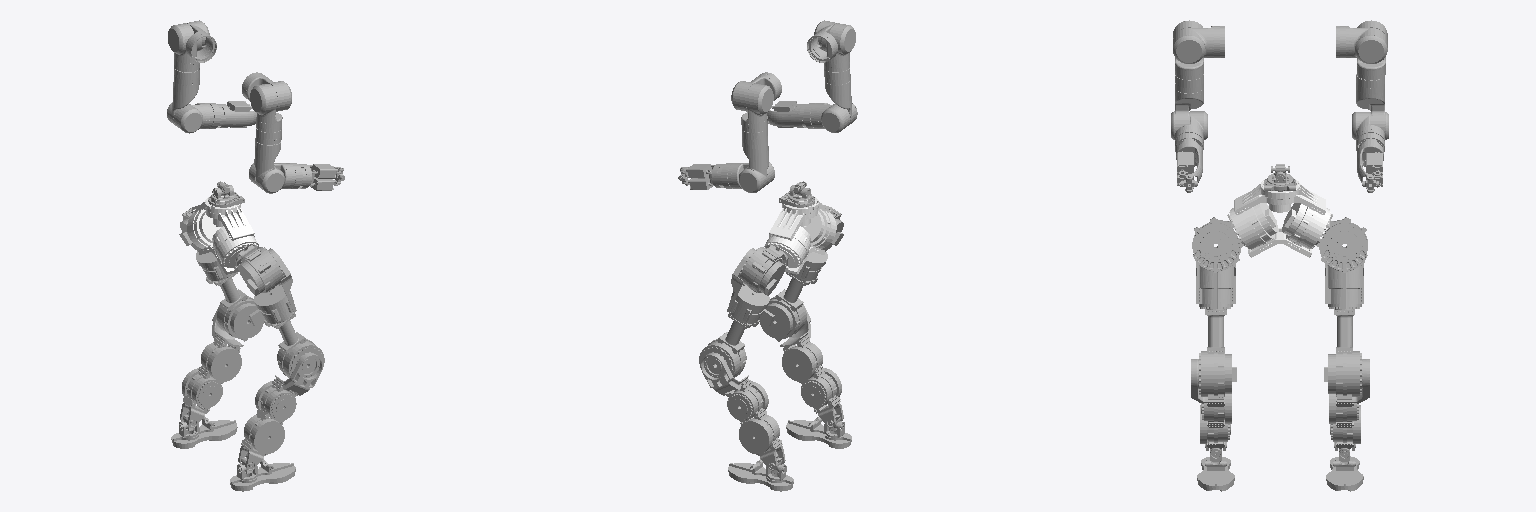
--- Facts derived from the render (not from the file) ---
The picture shows the robot from 3 angles, left to right: view 1: azimuth 30°, elevation 25°; view 2: azimuth 150°, elevation 25°; view 3: azimuth 270°, elevation 25°; orthographic projection.
Robot: dexbot — 30 links, 29 joints (12 revolute, 17 fixed); root link base_link; default pose: all joints at 0.
Links seen in each view (by area): view 1: leg_r4_link, leg_l4_link, base_link, leg_l3_link, leg_r1_link, leg_r3_link, arm_r3_link, leg_r2_link, leg_l6_link, leg_r6_link, arm_r2_link, arm_r5_link (+7 smaller); view 2: leg_l4_link, leg_r4_link, base_link, leg_r3_link, leg_l1_link, leg_l3_link, arm_l3_link, leg_l2_link, leg_l6_link, leg_r6_link, arm_l2_link, arm_l5_link (+7 smaller); view 3: base_link, leg_r2_link, leg_l2_link, leg_l3_link, leg_r3_link, leg_r4_link, leg_l4_link, arm_r1_link, arm_l1_link, arm_l3_link, arm_r5_link, arm_r3_link (+9 smaller).
Link boxes in pixels (x1,y1,x2,y2): leg_r4_link: (238, 353, 322, 470); leg_l4_link: (180, 305, 243, 427); base_link: (187, 196, 258, 274); leg_l3_link: (206, 272, 264, 341); leg_r1_link: (235, 244, 284, 295); leg_r3_link: (264, 312, 324, 377); arm_r3_link: (254, 128, 284, 193); leg_r2_link: (254, 248, 296, 323); leg_l6_link: (171, 417, 237, 448); leg_r6_link: (230, 459, 295, 491); arm_r2_link: (250, 84, 282, 132); arm_r5_link: (290, 163, 343, 190); leg_l4_link: (700, 353, 785, 470); leg_r4_link: (780, 304, 843, 427); base_link: (764, 196, 836, 274); leg_r3_link: (759, 272, 817, 341); leg_l1_link: (739, 244, 788, 295); leg_l3_link: (699, 312, 759, 377); arm_l3_link: (739, 128, 768, 192); leg_l2_link: (727, 248, 769, 323); leg_l6_link: (728, 459, 793, 491); leg_r6_link: (786, 417, 851, 448); arm_l2_link: (741, 83, 773, 132); arm_l5_link: (680, 163, 732, 189); base_link: (1229, 179, 1330, 257); leg_r2_link: (1193, 231, 1238, 309); leg_l2_link: (1322, 231, 1367, 309); leg_l3_link: (1324, 309, 1362, 399); leg_r3_link: (1198, 309, 1236, 399); leg_r4_link: (1191, 359, 1231, 450); leg_l4_link: (1329, 359, 1369, 450); arm_r1_link: (1173, 26, 1224, 63); arm_l1_link: (1336, 26, 1387, 63); arm_l3_link: (1356, 74, 1388, 139); arm_r5_link: (1175, 132, 1203, 192); arm_r3_link: (1171, 74, 1203, 139).
Size in the robot's own frame: 0.3381 by 0.5764 by 1.31 metres.
27 mesh visuals loaded from 30 distinct referenced files (27 binary STL); not drawn: 3 (reference not matched to a file when rendering).

robot.urdf — dexbot:
<?xml version="1.0" encoding="utf-8"?>
<!-- This URDF was automatically created by SolidWorks to URDF Exporter! Originally created by Stephen Brawner ([email redacted]) 
     Commit Version: 1.6.0-4-g7f85cfe  Build Version: 1.6.7995.38578
     For more information, please see http://wiki.ros.org/sw_urdf_exporter -->
<robot
  name="dexbot">
  <mujoco>
    <compiler meshdir="../meshes/" balanceinertia="true" discardvisual="false"/>
  </mujoco>
  <link
    name="base_link">
    <inertial>
      <origin
        xyz="0.00026092 -2.8127E-06 -0.032217"
        rpy="0 0 0" />
      <mass
        value="6.36148470" />
      <inertia
        ixx="0.04306588"
        ixy="-0.00000008"
        ixz="-0.00001174"
        iyy="0.01886801"
        iyz="0.00000066"
        izz="0.03427573" />
    </inertial>
    <visual>
      <origin
        xyz="0 0 0"
        rpy="0 0 0" />
      <geometry>
        <mesh
          filename="../meshes/base_link.STL" />
      </geometry>
      <material
        name="">
        <color
          rgba="1 1 1 1" />
      </material>
    </visual>
    <collision>
      <origin
        xyz="0 0 0"
        rpy="0 0 0" />
      <geometry>
	    <box size="0.05 0.05 0.05"/>
      </geometry>
    </collision>
  </link>
 
  <link
    name="leg_l1_link">
    <inertial>
      <origin
        xyz="0.0017864690688535 0.116806232663126 -0.06730045557826"
        rpy="0 0 0" />
      <mass
        value="2.52127296" />
      <inertia
        ixx="0.00489363"
        ixy="0.00004173"
        ixz="-0.00002377"
        iyy="0.00398523"
        iyz="0.00008835"
        izz="0.00406691" />
    </inertial>
    <visual>
      <origin
        xyz="0 0 0"
        rpy="0 0 0" />
      <geometry>
        <mesh
          filename="../meshes/leg_l1_link.STL" />
      </geometry>
      <material
        name="">
        <color
          rgba="0.752941176470588 0.752941176470588 0.752941176470588 1" />
      </material>
    </visual>
    <collision>
      <origin
        xyz="0 0 0"
        rpy="0 0 0" />
      <geometry>
        <mesh
          filename="../meshes/leg_l1_link.STL" />
      </geometry>
    </collision>
  </link>
  <joint
    name="leg_l1_joint"
    type="revolute">
    <origin
      xyz="0 0.046765 -0.047489"
      rpy="0 -0.4 0" />
    <parent
      link="base_link" />
    <child
      link="leg_l1_link" />
    <axis
      xyz="0 0.86603 -0.5" />
    <limit
      lower="-2.878"
      upper="2.878"
      effort="360"
      velocity="10" />
  </joint>
  <link
    name="leg_l2_link">
    <inertial>
      <origin
        xyz="0.0181611526889743 7.56912721500136E-07 -0.100016047593423"
        rpy="0 0 0" />
      <mass
        value="1.73504778" />
      <inertia
        ixx="0.00395397"
        ixy="-0.00000001"
        ixz="-0.00093866"
        iyy="0.00413227"
        iyz="-0.00000002"
        izz="0.00269158" />
    </inertial>
    <visual>
      <origin
        xyz="0 0 0"
        rpy="0 0 0" />
      <geometry>
        <mesh
          filename="../meshes/leg_l2_link.STL" />
      </geometry>
      <material
        name="">
        <color
          rgba="0.752941176470588 0.752941176470588 0.752941176470588 1" />
      </material>
    </visual>
    <collision>
      <origin
        xyz="0 0 0"
        rpy="0 0 0" />
      <geometry>
        <mesh
          filename="../meshes/leg_l2_link.STL" />
      </geometry>
    </collision>
  </link>
  <joint
    name="leg_l2_joint"
    type="revolute">
    <origin
      xyz="0 0.12298 -0.071"
      rpy="0 0 0" />
    <parent
      link="leg_l1_link" />
    <child
      link="leg_l2_link" />
    <axis
      xyz="1 0 0" />
    <limit
      lower="-0.523"
      upper="3.663"
      effort="360"
      velocity="10" />
  </joint>
  <link
    name="leg_l3_link">
    <inertial>
      <origin
        xyz="0.000114524600190401 0.00164777125622231 -0.147066721883769"
        rpy="0 0 0" />
      <mass
        value="2.61656788" />
      <inertia
        ixx="0.00782239"
        ixy="0.00006403"
        ixz="0.00007604"
        iyy="0.00840438"
        iyz="0.00005952"
        izz="0.00374500" />
    </inertial>
    <visual>
      <origin
        xyz="0 0 0"
        rpy="0 0 0" />
      <geometry>
        <mesh
          filename="../meshes/leg_l3_link.STL" />
      </geometry>
      <material
        name="">
        <color
          rgba="0.752941176470588 0.752941176470588 0.752941176470588 1" />
      </material>
    </visual>
    <collision>
      <origin
        xyz="0 0 0"
        rpy="0 0 0" />
      <geometry>
        <mesh
          filename="../meshes/leg_l3_link.STL" />
      </geometry>
    </collision>
  </link>
  <joint
    name="leg_l3_joint"
    type="revolute">
    <origin
      xyz="0 0 -0.167"
      rpy="0 0 0" />
    <parent
      link="leg_l2_link" />
    <child
      link="leg_l3_link" />
    <axis
      xyz="0 0 1" />
    <limit
      lower="-2.791"
      upper="2.791"
      effort="120"
      velocity="10" />
  </joint>
  <link
    name="leg_l4_link">
    <inertial>
      <origin
        xyz="-2.42788361047336E-08 0.00822937854237335 -0.173854656992678"
        rpy="0 0 0" />
      <mass
        value="3.31554813 " />
      <inertia
        ixx="0.01958814"
        ixy="1.45675411582526E-10"
        ixz="3.648473073682E-10"
        iyy="0.01919917"
        iyz="-0.00126641"
        izz="0.00408025" />
    </inertial>
    <visual>
      <origin
        xyz="0 0 0"
        rpy="0 0 0" />
      <geometry>
        <mesh
          filename="../meshes/leg_l4_link.STL" />
      </geometry>
      <material
        name="">
        <color
          rgba="0.752941176470588 0.752941176470588 0.752941176470588 1" />
      </material>
    </visual>
    <collision>
      <origin
        xyz="0 0 0"
        rpy="0 0 0" />
      <geometry>
	    <box size="0.1 0.1 0.2"/>
      </geometry>
    </collision>
  </link>
  <joint
    name="leg_l4_joint"
    type="revolute">
    <origin
      xyz="0 0 -0.173"
      rpy="0 0.95 0" />
    <parent
      link="leg_l3_link" />
    <child
      link="leg_l4_link" />
    <axis
      xyz="0 1 0" />
    <limit
      lower="-2.355"
      upper="2.355"
      effort="360"
      velocity="10" />
  </joint>
  <link
    name="leg_l5_link">
    <inertial>
      <origin
        xyz="4.00159781425996E-05 -1.65302931448563E-05 -0.00782114986776949"
        rpy="0 0 0" />
      <mass
        value="0.07526525" />
      <inertia
        ixx="0.00001536"
        ixy="2.28805291083391E-22"
        ixz="0.00000014"
        iyy="0.00001554"
        iyz="-2.04482003272117E-20"
        izz="0.00001540" />
    </inertial>
    <visual>
      <origin
        xyz="0 0 0"
        rpy="0 0 0" />
      <geometry>
        <mesh
          filename="../meshes/leg_l5_link.STL" />
      </geometry>
      <material
        name="">
        <color
          rgba="0.752941176470588 0.752941176470588 0.752941176470588 1" />
      </material>
    </visual>
    <collision>
      <origin
        xyz="0 0 0"
        rpy="0 0 0" />
      <geometry>
        <mesh
          filename="../meshes/leg_l5_link.STL" />
      </geometry>
    </collision>
  </link>
  <joint
    name="leg_l5_joint"
    type="revolute">
    <origin
      xyz="0 0 -0.34"
      rpy="0 -0.6 0" />
    <parent
      link="leg_l4_link" />
    <child
      link="leg_l5_link" />
    <axis
      xyz="0 1 0" />
    <limit
      lower="-1.046"
      upper="0.436"
      effort="120"
      velocity="10" />
    <dynamics
      damping="0."
      friction="0.1" />
  </joint>
  <link
    name="leg_l6_link">
    <inertial>
      <origin
        xyz="0.0457872515086006 -6.33583149833861E-09 -0.0382686559903004"
        rpy="0 0 0" />
      <mass
        value="0.53640572" />
      <inertia
        ixx="0.00030450"
        ixy="-6.41793064473971E-11"
        ixz="0.00006785"
        iyy="0.00162803"
        iyz="-5.36686897038477E-11"
        izz="0.00177516" />
    </inertial>
    <visual>
      <origin
        xyz="0 0 0"
        rpy="0 0 0" />
      <geometry>
        <mesh
          filename="../meshes/leg_l6_link.STL" />
      </geometry>
      <material
        name="">
        <color
          rgba="0.752941176470588 0.752941176470588 0.752941176470588 1" />
      </material>
    </visual>
    <collision>
      <origin
        xyz="0 0 0"
        rpy="0 0 0" />
      <geometry>
        <mesh
          filename="../meshes/leg_l6_link.STL" />
      </geometry>
    </collision>
  </link>
  <joint
    name="leg_l6_joint"
    type="revolute">
    <origin
      xyz="0 0 -0.015"
      rpy="0 0 0" />
    <parent
      link="leg_l5_link" />
    <child
      link="leg_l6_link" />
    <axis
      xyz="1 0 0" />
    <limit
      lower="-0.261"
      upper="0.261"
      effort="120"
      velocity="10" />
    <dynamics
      damping="0."
      friction="0.1" />
  </joint>
  <link
    name="leg_r1_link">
    <inertial>
      <origin
        xyz="0.00178614318038721 -0.11680589348535 -0.0673010430487607"
        rpy="0 0 0" />
      <mass
        value="2.52127296" />
      <inertia
        ixx="0.00489363"
        ixy="-0.00004169"
        ixz="-0.00002379"
        iyy="0.00398515"
        iyz="-0.00008830"
        izz="0.00406699" />
    </inertial>
    <visual>
      <origin
        xyz="0 0 0"
        rpy="0 0 0" />
      <geometry>
        <mesh
          filename="../meshes/leg_r1_link.STL" />
      </geometry>
      <material
        name="">
        <color
          rgba="0.752941176470588 0.752941176470588 0.752941176470588 1" />
      </material>
    </visual>
    <collision>
      <origin
        xyz="0 0 0"
        rpy="0 0 0" />
      <geometry>
        <mesh
          filename="../meshes/leg_r1_link.STL" />
      </geometry>
    </collision>
  </link>
  <joint
    name="leg_r1_joint"
    type="revolute">
    <origin
      xyz="0 -0.046765 -0.047489"
      rpy="0 -0.4 0" />
    <parent
      link="base_link" />
    <child
      link="leg_r1_link" />
    <axis
      xyz="0 0.86603 0.5" />
    <limit
      lower="-2.878"
      upper="2.878"
      effort="360"
      velocity="10" />
  </joint>
  <link
    name="leg_r2_link">
    <inertial>
      <origin
        xyz="0.0181611526889737 7.56912739346971E-07 -0.100016047593425"
        rpy="0 0 0" />
      <mass
        value="1.73504778 " />
      <inertia
        ixx="0.00395397"
        ixy="-0.00000001"
        ixz="-0.00093866"
        iyy="0.00413227"
        iyz="-0.00000002"
        izz="0.00269158" />
    </inertial>
    <visual>
      <origin
        xyz="0 0 0"
        rpy="0 0 0" />
      <geometry>
        <mesh
          filename="../meshes/leg_r2_link.STL" />
      </geometry>
      <material
        name="">
        <color
          rgba="0.752941176470588 0.752941176470588 0.752941176470588 1" />
      </material>
    </visual>
    <collision>
      <origin
        xyz="0 0 0"
        rpy="0 0 0" />
      <geometry>
        <mesh
          filename="../meshes/leg_r2_link.STL" />
      </geometry>
    </collision>
  </link>
  <joint
    name="leg_r2_joint"
    type="revolute">
    <origin
      xyz="0 -0.12298 -0.071"
      rpy="0 0 0" />
    <parent
      link="leg_r1_link" />
    <child
      link="leg_r2_link" />
    <axis
      xyz="1 0 0" />
    <limit
      lower="-3.663"
      upper="0.523"
      effort="360"
      velocity="10" />
  </joint>
  <link
    name="leg_r3_link">
    <inertial>
      <origin
        xyz="0.000114524600189936 -0.00164777130191504 -0.152066096139861"
        rpy="0 0 0" />
      <mass
        value="2.61656788" />
      <inertia
        ixx="0.00782235"
        ixy="-0.00006403"
        ixz="0.00007614"
        iyy="0.00840433"
        iyz="-0.00005955"
        izz="0.00374500" />
    </inertial>
    <visual>
      <origin
        xyz="0 0 0"
        rpy="0 0 0" />
      <geometry>
        <mesh
          filename="../meshes/leg_r3_link.STL" />
      </geometry>
      <material
        name="">
        <color
          rgba="0.752941176470588 0.752941176470588 0.752941176470588 1" />
      </material>
    </visual>
    <collision>
      <origin
        xyz="0 0 0"
        rpy="0 0 0" />
      <geometry>
        <mesh
          filename="../meshes/leg_r3_link.STL" />
      </geometry>
    </collision>
  </link>
  <joint
    name="leg_r3_joint"
    type="revolute">
    <origin
      xyz="0 0 -0.162"
      rpy="0 0 0" />
    <parent
      link="leg_r2_link" />
    <child
      link="leg_r3_link" />
    <axis
      xyz="0 0 1" />
    <limit
      lower="-2.791"
      upper="2.791"
      effort="120"
      velocity="10" />
  </joint>
  <link
    name="leg_r4_link">
    <inertial>
      <origin
        xyz="2.42790771935745E-08 -0.00822937854297046 -0.173854656994349"
        rpy="0 0 0" />
      <mass
        value="3.31554813" />
      <inertia
        ixx="0.01958814"
        ixy="1.4568009343734E-10"
        ixz="-3.64833965217596E-10"
        iyy="0.01919917"
        iyz="0.00126641"
        izz="0.00408025" />
    </inertial>
    <visual>
      <origin
        xyz="0 0 0"
        rpy="0 0 0" />
      <geometry>
        <mesh
          filename="../meshes/leg_r4_link.STL" />
      </geometry>
      <material
        name="">
        <color
          rgba="0.752941176470588 0.752941176470588 0.752941176470588 1" />
      </material>
    </visual>
    <collision>
      <origin
        xyz="0 0 0"
        rpy="0 0 0" />
      <geometry>
	    <box size="0.1 0.1 0.2"/>
      </geometry>
    </collision>
  </link>
  <joint
    name="leg_r4_joint"
    type="revolute">
    <origin
      xyz="0 0 -0.178"
      rpy="0 0.95 0" />
    <parent
      link="leg_r3_link" />
    <child
      link="leg_r4_link" />
    <axis
      xyz="0 1 0" />
    <limit
      lower="-2.355"
      upper="2.355"
      effort="360"
      velocity="10" />
  </joint>
  <link
    name="leg_r5_link">
    <inertial>
      <origin
        xyz="4.00159781427515E-05 1.65302931921796E-05 -0.00782114986777116"
        rpy="0 0 0" />
      <mass
        value="0.07526525 " />
      <inertia
        ixx="0.00001536"
        ixy="-6.76802670148237E-22"
        ixz="0.00000014"
        iyy="0.00001554"
        iyz="-6.28566146662745E-21"
        izz="0.00001540" />
    </inertial>
    <visual>
      <origin
        xyz="0 0 0"
        rpy="0 0 0" />
      <geometry>
        <mesh
          filename="../meshes/leg_r5_link.STL" />
      </geometry>
      <material
        name="">
        <color
          rgba="0.752941176470588 0.752941176470588 0.752941176470588 1" />
      </material>
    </visual>
    <collision>
      <origin
        xyz="0 0 0"
        rpy="0 0 0" />
      <geometry>
        <mesh
          filename="../meshes/leg_r5_link.STL" />
      </geometry>
    </collision>
  </link>
  <joint
    name="leg_r5_joint"
    type="revolute">
    <origin
      xyz="0 0 -0.34"
      rpy="0 -0.6 0" />
    <parent
      link="leg_r4_link" />
    <child
      link="leg_r5_link" />
    <axis
      xyz="0 1 0" />
    <limit
      lower="-1.046"
      upper="0.436"
      effort="120"
      velocity="10" />
    <dynamics
      damping="0."
      friction="0.1" />
  </joint>
  <link
    name="leg_r6_link">
    <inertial>
      <origin
        xyz="0.0457872515086024 -6.33582283859901E-09 -0.0382686559903024"
        rpy="0 0 0" />
      <mass
        value="0.53640572" />
      <inertia
        ixx="0.00030450"
        ixy="-6.41793116816966E-11"
        ixz="0.00006785"
        iyy="0.00162803"
        iyz="-5.36686913549503E-11"
        izz="0.00177516" />
    </inertial>
    <visual>
      <origin
        xyz="0 0 0"
        rpy="0 0 0" />
      <geometry>
        <mesh
          filename="../meshes/leg_r6_link.STL" />
      </geometry>
      <material
        name="">
        <color
          rgba="0.752941176470588 0.752941176470588 0.752941176470588 1" />
      </material>
    </visual>
    <collision>
      <origin
        xyz="0 0 0"
        rpy="0 0 0" />
      <geometry>
        <mesh
          filename="../meshes/leg_r6_link.STL" />
      </geometry>
    </collision>
  </link>
  <joint
    name="leg_r6_joint"
    type="revolute">
    <origin
      xyz="0 0 -0.015"
      rpy="0 0 0" />
    <parent
      link="leg_r5_link" />
    <child
      link="leg_r6_link" />
    <axis
      xyz="1 0 0" />
    <limit
      lower="-0.261"
      upper="0.261"
      effort="120"
      velocity="10" />
    <dynamics
      damping="0."
      friction="0.1" />
  </joint>
  <link
    name="waist_yaw_link">
    <inertial>
      <origin
        xyz="0.00787627921192027 -2.35767009722762E-05 -0.0105472849579242"
        rpy="0 0 0" />
      <mass
        value="3" />
      <inertia
        ixx="0.00019007"
        ixy="0.00000020"
        ixz="-0.00000368"
        iyy="0.00021255"
        iyz="0.00000002"
        izz="0.00030541" />
    </inertial>
    <visual>
      <origin
        xyz="0 0 0"
        rpy="0 0 0" />
      <geometry>
        <mesh
          filename="../meshes/waist_yaw_link.STL" />
      </geometry>
      <material
        name="">
        <color
          rgba="0.752941176470588 0.752941176470588 0.752941176470588 1" />
      </material>
    </visual>
    <collision>
      <origin
        xyz="0 0 0"
        rpy="0 0 0" />
      <geometry>
        <mesh
          filename="../meshes/waist_yaw_link.STL" />
      </geometry>
    </collision>
  </link>
  <joint
    name="waist_yaw_joint"
    type="fixed">
    <origin
      xyz="0 0 0.068702"
      rpy="0 0.05 0" />
    <parent
      link="base_link" />
    <child
      link="waist_yaw_link" />
    <axis
      xyz="0 0 1" />
    <limit
      lower="-1"
      upper="1"
      effort="120"
      velocity="10" />
  </joint>
  <link
    name="waist_roll_link">
    <inertial>
      <origin
        xyz="-0.000388928550485794 0.000350132910345151 0.00738202287463685"
        rpy="0 0 0" />
      <mass
        value="3" />
      <inertia
        ixx="0.00002646"
        ixy="-0.00000002"
        ixz="-0.00000046"
        iyy="0.00003035"
        iyz="-0.00000038"
        izz="0.00003003" />
    </inertial>
    <visual>
      <origin
        xyz="0 0 0"
        rpy="0 0 0" />
      <geometry>
        <mesh
          filename="../meshes/waist_roll_link.STL" />
      </geometry>
      <material
        name="">
        <color
          rgba="0.752941176470588 0.752941176470588 0.752941176470588 1" />
      </material>
    </visual>
    <collision>
      <origin
        xyz="0 0 0"
        rpy="0 0 0" />
      <geometry>
        <mesh
          filename="../meshes/waist_roll_link.STL" />
      </geometry>
    </collision>
  </link>
  <joint
    name="waist_roll_joint"
    type="fixed">
    <origin
      xyz="0 0 0.013"
      rpy="0 0 0" />
    <parent
      link="waist_yaw_link" />
    <child
      link="waist_roll_link" />
    <axis
      xyz="1 0 0" />
    <limit
      lower="-1"
      upper="1"
      effort="120"
      velocity="10" />
  </joint>
  <link
    name="waist_pitch_link">
    <inertial>
      <origin
        xyz="-0.00970826894856499 -0.000666017269940171 0.246498190853554"
        rpy="0 0 0" />
      <mass
        value="3" />
      <inertia
        ixx="0.39246282"
        ixy="-0.00207990"
        ixz="-0.00581603"
        iyy="0.34173665"
        iyz="-0.00122791"
        izz="0.12457224" />
    </inertial>
    <visual>
      <origin
        xyz="0 0 0"
        rpy="0 0 0" />
      <geometry>
        <mesh
          filename="../meshes/waist_pitch_link.STL" />
      </geometry>
      <material
        name="">
        <color
          rgba="0.752941176470588 0.752941176470588 0.752941176470588 1" />
      </material>
    </visual>
    <collision>
      <origin
        xyz="0 0 0"
        rpy="0 0 0" />
      <geometry>
        <mesh
          filename="../meshes/waist_pitch_link.STL" />
      </geometry>
    </collision>
  </link>
  <joint
    name="waist_pitch_joint"
    type="fixed">
    <origin
      xyz="0 0 0.014"
      rpy="0 0 0" />
    <parent
      link="waist_roll_link" />
    <child
      link="waist_pitch_link" />
    <axis
      xyz="0 1 0" />
    <limit
      lower="-1"
      upper="1"
      effort="120"
      velocity="10" />
  </joint>
  <link
    name="arm_l1_link">
    <inertial>
      <origin
        xyz="0.0121006127120013 0.0572041155775264 -4.1012711069488E-06"
        rpy="0 0 0" />
      <mass
        value="0" />
      <inertia
        ixx="0.00045830"
        ixy="-0.00008360"
        ixz="-0.00000002"
        iyy="0.00028678"
        iyz="-0.00000003"
        izz="0.00041174" />
    </inertial>
    <visual>
      <origin
        xyz="0 0 0"
        rpy="0 0 0" />
      <geometry>
        <mesh
          filename="../meshes/arm_l1_link.STL" />
      </geometry>
      <material
        name="">
        <color
          rgba="0.752941176470588 0.752941176470588 0.752941176470588 1" />
      </material>
    </visual>
    <collision>
      <origin
        xyz="0 0 0"
        rpy="0 0 0" />
      <geometry>
        <mesh
          filename="../meshes/arm_l1_link.STL" />
      </geometry>
    </collision>
  </link>
  <joint
    name="arm_l1_joint"
    type="fixed">
    <origin
      xyz="0 0.144 0.38"
      rpy="0 0 0" />
    <parent
      link="waist_pitch_link" />
    <child
      link="arm_l1_link" />
    <axis
      xyz="0 1 0" />
    <limit
      lower="-1"
      upper="1"
      effort="120"
      velocity="10" />
  </joint>
  <link
    name="arm_l2_link">
    <inertial>
      <origin
        xyz="-0.00161764285940526 -3.97015482295204E-07 -0.00579799005909298"
        rpy="0 0 0" />
      <mass
        value="0" />
      <inertia
        ixx="0.00116457"
        ixy="-6.74756971402415E-08"
        ixz="0.00001309"
        iyy="0.00126789"
        iyz="-0.00000004"
        izz="0.00092462" />
    </inertial>
    <visual>
      <origin
        xyz="0 0 0"
        rpy="0 0 0" />
      <geometry>
        <mesh
          filename="../meshes/arm_l2_link.STL" />
      </geometry>
      <material
        name="">
        <color
          rgba="0.752941176470588 0.752941176470588 0.752941176470588 1" />
      </material>
    </visual>
    <collision>
      <origin
        xyz="0 0 0"
        rpy="0 0 0" />
      <geometry>
        <mesh
          filename="../meshes/arm_l2_link.STL" />
      </geometry>
    </collision>
  </link>
  <joint
    name="arm_l2_joint"
    type="fixed">
    <origin
      xyz="-0.001 0.096 0"
      rpy="0 0 0" />
    <parent
      link="arm_l1_link" />
    <child
      link="arm_l2_link" />
    <axis
      xyz="1 0 0" />
    <limit
      lower="-1"
      upper="1"
      effort="120"
      velocity="10" />
  </joint>
  <link
    name="arm_l3_link">
    <inertial>
      <origin
        xyz="9.00903682174029E-05 0.00118340656204821 -0.0833842312044012"
        rpy="0 0 0" />
      <mass
        value="0" />
      <inertia
        ixx="0.00792989"
        ixy="-0.00000373"
        ixz="0.00003198"
        iyy="0.00779496"
        iyz="0.00014312"
        izz="0.00106001" />
    </inertial>
    <visual>
      <origin
        xyz="0 0 0"
        rpy="0 0 0" />
      <geometry>
        <mesh
          filename="../meshes/arm_l3_link.STL" />
      </geometry>
      <material
        name="">
        <color
          rgba="0.752941176470588 0.752941176470588 0.752941176470588 1" />
      </material>
    </visual>
    <collision>
      <origin
        xyz="0 0 0"
        rpy="0 0 0" />
      <geometry>
        <mesh
          filename="../meshes/arm_l3_link.STL" />
      </geometry>
    </collision>
  </link>
  <joint
    name="arm_l3_joint"
    type="fixed">
    <origin
      xyz="0.001 0 -0.096003"
      rpy="0 0 0" />
    <parent
      link="arm_l2_link" />
    <child
      link="arm_l3_link" />
    <axis
      xyz="0 0 1" />
    <limit
      lower="-1"
      upper="1"
      effort="120"
      velocity="10" />
  </joint>
  <link
    name="arm_l4_link">
    <inertial>
      <origin
        xyz="1.49804098653616E-07 -0.0117030083597582 -0.0301791602436848"
        rpy="0 0 0" />
      <mass
        value="0" />
      <inertia
        ixx="0.00021956"
        ixy="-4.35065508759493E-10"
        ixz="8.14225140142345E-10"
        iyy="0.00024171"
        iyz="0.00004659"
        izz="0.00016652" />
    </inertial>
    <visual>
      <origin
        xyz="0 0 0"
        rpy="0 0 0" />
      <geometry>
        <mesh
          filename="../meshes/arm_l4_link.STL" />
      </geometry>
      <material
        name="">
        <color
          rgba="0.752941176470588 0.752941176470588 0.752941176470588 1" />
      </material>
    </visual>
    <collision>
      <origin
        xyz="0 0 0"
        rpy="0 0 0" />
      <geometry>
        <mesh
          filename="../meshes/arm_l4_link.STL" />
      </geometry>
    </collision>
  </link>
  <joint
    name="arm_l4a_joint"
    type="fixed">
    <origin
      xyz="0.0012982 -0.00057271 -0.154"
      rpy="0 -1.4 0" />
    <parent
      link="arm_l3_link" />
    <child
      link="arm_l4_link" />
    <axis
      xyz="0 1 0" />
    <limit
      lower="-1"
      upper="1"
      effort="120"
      velocity="10" />
  </joint>
  <link
    name="arm_l5_link">
    <inertial>
      <origin
        xyz="-2.29959343993162E-08 0.000734391169738891 -0.0354032821121625"
        rpy="0 0 0" />
      <mass
        value="0" />
      <inertia
        ixx="0.00229040"
        ixy="1.52390942101639E-09"
        ixz="2.15023246986411E-11"
        iyy="0.00228533"
        iyz="0.00004692"
        izz="0.00058394" />
    </inertial>
    <visual>
      <origin
        xyz="0 0 0"
        rpy="0 0 0" />
      <geometry>
        <mesh
          filename="../meshes/arm_l5_link.STL" />
      </geometry>
      <material
        name="">
        <color
          rgba="0.752941176470588 0.752941176470588 0.752941176470588 1" />
      </material>
    </visual>
    <collision>
      <origin
        xyz="0 0 0"
        rpy="0 0 0" />
      <geometry>
        <mesh
          filename="../meshes/arm_l5_link.STL" />
      </geometry>
    </collision>
  </link>
  <joint
    name="arm_l5a_joint"
    type="fixed">
    <origin
      xyz="0 -0.0010034 -0.078003"
      rpy="0 0 0" />
    <parent
      link="arm_l4_link" />
    <child
      link="arm_l5_link" />
    <axis
      xyz="0 0 1" />
    <limit
      lower="-1"
      upper="1"
      effort="120"
      velocity="10" />
  </joint>
  <link
    name="arm_l6_link">
    <inertial>
      <origin
        xyz="7.00162865575459E-05 -6.51130576661829E-05 -1.23502315145518E-11"
        rpy="0 0 0" />
      <mass
        value="0" />
      <inertia
        ixx="0.00000729"
        ixy="2.55780907874052E-11"
        ixz="4.94641661915567E-18"
        iyy="0.00000887"
        iyz="1.03998630487718E-13"
        izz="0.00001475" />
    </inertial>
    <visual>
      <origin
        xyz="0 0 0"
        rpy="0 0 0" />
      <geometry>
        <mesh
          filename="../meshes/arm_l6_link.STL" />
      </geometry>
      <material
        name="">
        <color
          rgba="0.752941176470588 0.752941176470588 0.752941176470588 1" />
      </material>
    </visual>
    <collision>
      <origin
        xyz="0 0 0"
        rpy="0 0 0" />
      <geometry>
        <mesh
          filename="../meshes/arm_l6_link.STL" />
      </geometry>
    </collision>
  </link>
  <joint
    name="arm_l6a_joint"
    type="fixed">
    <origin
      xyz="0 0 -0.172"
      rpy="0 0 0" />
    <parent
      link="arm_l5_link" />
    <child
      link="arm_l6_link" />
    <axis
      xyz="0 1 0" />
    <limit
      lower="-1"
      upper="1"
      effort="120"
      velocity="10" />
  </joint>
  <link
    name="arm_l7_link">
    <inertial>
      <origin
        xyz="0.00334756121687912 -0.00476719714664378 -0.0608151433410942"
        rpy="0 0 0" />
      <mass
        value="0" />
      <inertia
        ixx="0.00242159"
        ixy="0.00021734"
        ixz="0.00000364"
        iyy="0.00237365"
        iyz="-0.00009025"
        izz="0.00091109" />
    </inertial>
    <visual>
      <origin
        xyz="0 0 0"
        rpy="0 0 0" />
      <geometry>
        <mesh
          filename="../meshes/arm_l7_link.STL" />
      </geometry>
      <material
        name="">
        <color
          rgba="0.752941176470588 0.752941176470588 0.752941176470588 1" />
      </material>
    </visual>
    <collision>
      <origin
        xyz="0 0 0"
        rpy="0 0 0" />
      <geometry>
        <mesh
          filename="../meshes/arm_l7_link.STL" />
      </geometry>
    </collision>
  </link>
  <joint
    name="arm_l7_joint"
    type="fixed">
    <origin
      xyz="0 0 0"
      rpy="0 0 0" />
    <parent
      link="arm_l6_link" />
    <child
      link="arm_l7_link" />
    <axis
      xyz="1 0 0" />
    <limit
      lower="-1"
      upper="1"
      effort="120"
      velocity="10" />
  </joint>
  <link
    name="arm_r1_link">
    <inertial>
      <origin
        xyz="0.0121006127119993 -0.057204115577526 4.10127110739289E-06"
        rpy="0 0 0" />
      <mass
        value="0" />
      <inertia
        ixx="0.00045830"
        ixy="0.00008360"
        ixz="0.00000002"
        iyy="0.00028678"
        iyz="-0.00000003"
        izz="0.00041174" />
    </inertial>
    <visual>
      <origin
        xyz="0 0 0"
        rpy="0 0 0" />
      <geometry>
        <mesh
          filename="../meshes/arm_r1_link.STL" />
      </geometry>
      <material
        name="">
        <color
          rgba="0.752941176470588 0.752941176470588 0.752941176470588 1" />
      </material>
    </visual>
    <collision>
      <origin
        xyz="0 0 0"
        rpy="0 0 0" />
      <geometry>
        <mesh
          filename="../meshes/arm_r1_link.STL" />
      </geometry>
    </collision>
  </link>
  <joint
    name="arm_r1_joint"
    type="fixed">
    <origin
      xyz="0 -0.144 0.38"
      rpy="0 0 0" />
    <parent
      link="waist_pitch_link" />
    <child
      link="arm_r1_link" />
    <axis
      xyz="0 1 0" />
    <limit
      lower="-1"
      upper="1"
      effort="120"
      velocity="10" />
  </joint>
  <link
    name="arm_r2_link">
    <inertial>
      <origin
        xyz="-0.00161764285940585 -3.97015482239693E-07 -0.00579799005909115"
        rpy="0 0 0" />
      <mass
        value="0 " />
      <inertia
        ixx="0.00116457"
        ixy="-6.74756971405435E-08"
        ixz="0.00001309"
        iyy="0.00126789"
        iyz="-0.00000004"
        izz="0.00092462" />
    </inertial>
    <visual>
      <origin
        xyz="0 0 0"
        rpy="0 0 0" />
      <geometry>
        <mesh
          filename="../meshes/arm_r2_link.STL" />
      </geometry>
      <material
        name="">
        <color
          rgba="0.752941176470588 0.752941176470588 0.752941176470588 1" />
      </material>
    </visual>
    <collision>
      <origin
        xyz="0 0 0"
        rpy="0 0 0" />
      <geometry>
        <mesh
          filename="../meshes/arm_r2_link.STL" />
      </geometry>
    </collision>
  </link>
  <joint
    name="arm_r2_joint"
    type="fixed">
    <origin
      xyz="-0.001 -0.096 0"
      rpy="0 0 0" />
    <parent
      link="arm_r1_link" />
    <child
      link="arm_r2_link" />
    <axis
      xyz="1 0 0" />
    <limit
      lower="-1"
      upper="1"
      effort="120"
      velocity="10" />
  </joint>
  <link
    name="arm_r3_link">
    <inertial>
      <origin
        xyz="-0.000671783132810063 -0.00211765209034712 -0.083500800793755"
        rpy="0 0 0" />
      <mass
        value="0" />
      <inertia
        ixx="0.00794073"
        ixy="0.00000208"
        ixz="-0.00002549"
        iyy="0.00780300"
        iyz="-0.00021459"
        izz="0.00106151" />
    </inertial>
    <visual>
      <origin
        xyz="0 0 0"
        rpy="0 0 0" />
      <geometry>
        <mesh
          filename="../meshes/arm_r3_link.STL" />
      </geometry>
      <material
        name="">
        <color
          rgba="0.752941176470588 0.752941176470588 0.752941176470588 1" />
      </material>
    </visual>
    <collision>
      <origin
        xyz="0 0 0"
        rpy="0 0 0" />
      <geometry>
        <mesh
          filename="../meshes/arm_r3_link.STL" />
      </geometry>
    </collision>
  </link>
  <joint
    name="arm_r3_joint"
    type="fixed">
    <origin
      xyz="0.001 0 -0.096003"
      rpy="0 0 0" />
    <parent
      link="arm_r2_link" />
    <child
      link="arm_r3_link" />
    <axis
      xyz="0 0 1" />
    <limit
      lower="-1"
      upper="1"
      effort="120"
      velocity="10" />
  </joint>
  <link
    name="arm_r4_link">
    <inertial>
      <origin
        xyz="-1.49804148750482E-07 0.00969955585975837 -0.0301791602436828"
        rpy="0 0 0" />
      <mass
        value="0" />
      <inertia
        ixx="0.00021956"
        ixy="-4.3506550876695E-10"
        ixz="-8.14225149772878E-10"
        iyy="0.00024171"
        iyz="-0.00004659"
        izz="0.00016652" />
    </inertial>
    <visual>
      <origin
        xyz="0 0 0"
        rpy="0 0 0" />
      <geometry>
        <mesh
          filename="../meshes/arm_r4_link.STL" />
      </geometry>
      <material
        name="">
        <color
          rgba="0.752941176470588 0.752941176470588 0.752941176470588 1" />
      </material>
    </visual>
    <collision>
      <origin
        xyz="0 0 0"
        rpy="0 0 0" />
      <geometry>
        <mesh
          filename="../meshes/arm_r4_link.STL" />
      </geometry>
    </collision>
  </link>
  <joint
    name="arm_r4a_joint"
    type="fixed">
    <origin
      xyz="0 0.0010035 -0.154"
      rpy="0 -1.4 0" />
    <parent
      link="arm_r3_link" />
    <child
      link="arm_r4_link" />
    <axis
      xyz="0 1 0" />
    <limit
      lower="-1"
      upper="1"
      effort="120"
      velocity="10" />
  </joint>
  <link
    name="arm_r5_link">
    <inertial>
      <origin
        xyz="2.29839983262953E-08 -0.000734384448753372 -0.0354032823706018"
        rpy="0 0 0" />
      <mass
        value="0 " />
      <inertia
        ixx="0.00229040"
        ixy="1.5237215482151E-09"
        ixz="-2.0558612775884E-11"
        iyy="0.00358688"
        iyz="-0.00004692"
        izz="0.00058394" />
    </inertial>
    <visual>
      <origin
        xyz="0 0 0"
        rpy="0 0 0" />
      <geometry>
        <mesh
          filename="../meshes/arm_r5_link.STL" />
      </geometry>
      <material
        name="">
        <color
          rgba="0.752941176470588 0.752941176470588 0.752941176470588 1" />
      </material>
    </visual>
    <collision>
      <origin
        xyz="0 0 0"
        rpy="0 0 0" />
      <geometry>
        <mesh
          filename="../meshes/arm_r5_link.STL" />
      </geometry>
    </collision>
  </link>
  <joint
    name="arm_r5a_joint"
    type="fixed">
    <origin
      xyz="0 -0.001 -0.078"
      rpy="0 0 0" />
    <parent
      link="arm_r4_link" />
    <child
      link="arm_r5_link" />
    <axis
      xyz="0 0 1" />
    <limit
      lower="-1"
      upper="1"
      effort="120"
      velocity="10" />
  </joint>
  <link
    name="arm_r6_link">
    <inertial>
      <origin
        xyz="-7.00162865573658E-05 6.51130576662107E-05 -2.24213009270002E-16"
        rpy="0 0 0" />
      <mass
        value="0" />
      <inertia
        ixx="0.00000729"
        ixy="2.55780907869747E-11"
        ixz="-1.44171828316231E-22"
        iyy="0.00000887"
        iyz="4.28611718593901E-22"
        izz="0.00001475" />
    </inertial>
    <visual>
      <origin
        xyz="0 0 0"
        rpy="0 0 0" />
      <geometry>
        <mesh
          filename="../meshes/arm_r6_link.STL" />
      </geometry>
      <material
        name="">
        <color
          rgba="0.752941176470588 0.752941176470588 0.752941176470588 1" />
      </material>
    </visual>
    <collision>
      <origin
        xyz="0 0 0"
        rpy="0 0 0" />
      <geometry>
        <mesh
          filename="../meshes/arm_r6_link.STL" />
      </geometry>
    </collision>
  </link>
  <joint
    name="arm_r6a_joint"
    type="fixed">
    <origin
      xyz="0 0 -0.172"
      rpy="0 0 0" />
    <parent
      link="arm_r5_link" />
    <child
      link="arm_r6_link" />
    <axis
      xyz="0 1 0" />
    <limit
      lower="-1"
      upper="1"
      effort="120"
      velocity="10" />
  </joint>
  <link
    name="arm_r7_link">
    <inertial>
      <origin
        xyz="0.00392280627605782 0.00445165416771251 -0.0608201661717542"
        rpy="0 0 0" />
      <mass
        value="0" />
      <inertia
        ixx="0.00238316"
        ixy="-0.00021760"
        ixz="0.00000923"
        iyy="0.00241114"
        iyz="0.00008965"
        izz="0.00091078" />
    </inertial>
    <visual>
      <origin
        xyz="0 0 0"
        rpy="0 0 0" />
      <geometry>
        <mesh
          filename="../meshes/arm_r7_link.STL" />
      </geometry>
      <material
        name="">
        <color
          rgba="0.752941176470588 0.752941176470588 0.752941176470588 1" />
      </material>
    </visual>
    <collision>
      <origin
        xyz="0 0 0"
        rpy="0 0 0" />
      <geometry>
        <mesh
          filename="../meshes/arm_r7_link.STL" />
      </geometry>
    </collision>
  </link>
  <joint
    name="arm_r7_joint"
    type="fixed">
    <origin
      xyz="0 0 0"
      rpy="0 0 0" />
    <parent
      link="arm_r6_link" />
    <child
      link="arm_r7_link" />
    <axis
      xyz="1 0 0" />
    <limit
      lower="-1"
      upper="1"
      effort="120"
      velocity="10" />
  </joint>
</robot>
